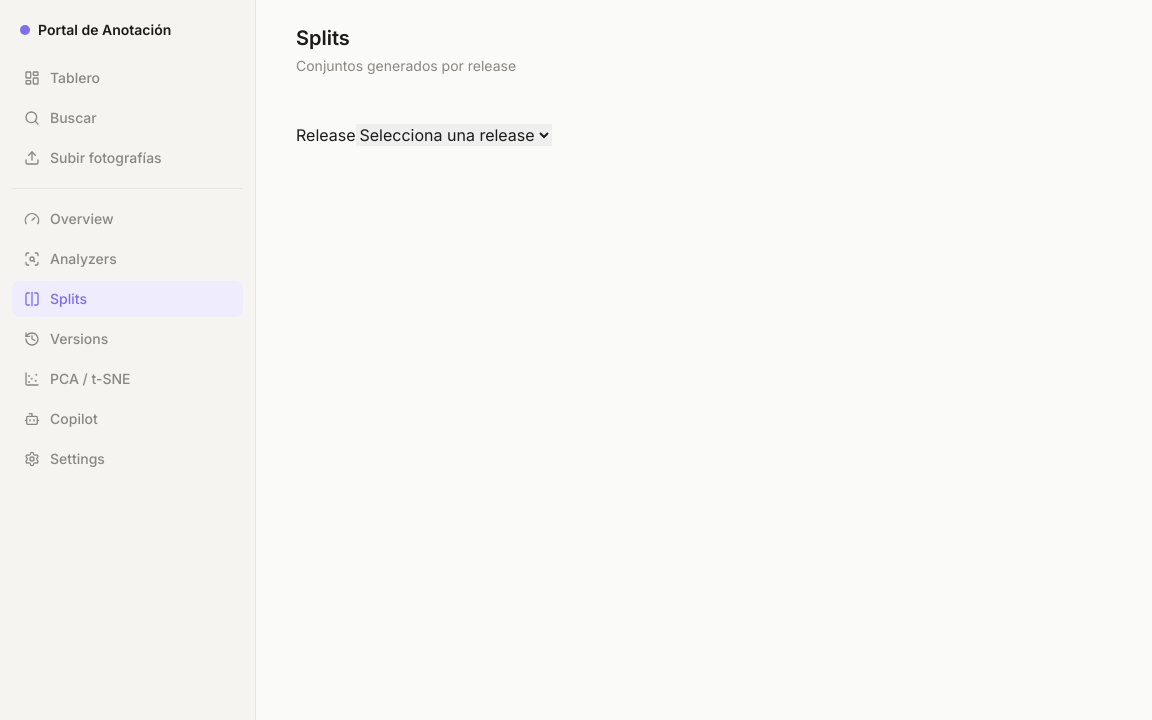
Test: rejects a referenced report belonging to a different version
Select "v0.1.0" in the dropdown labelled "Release" at (454, 135), box [356,124,552,146]
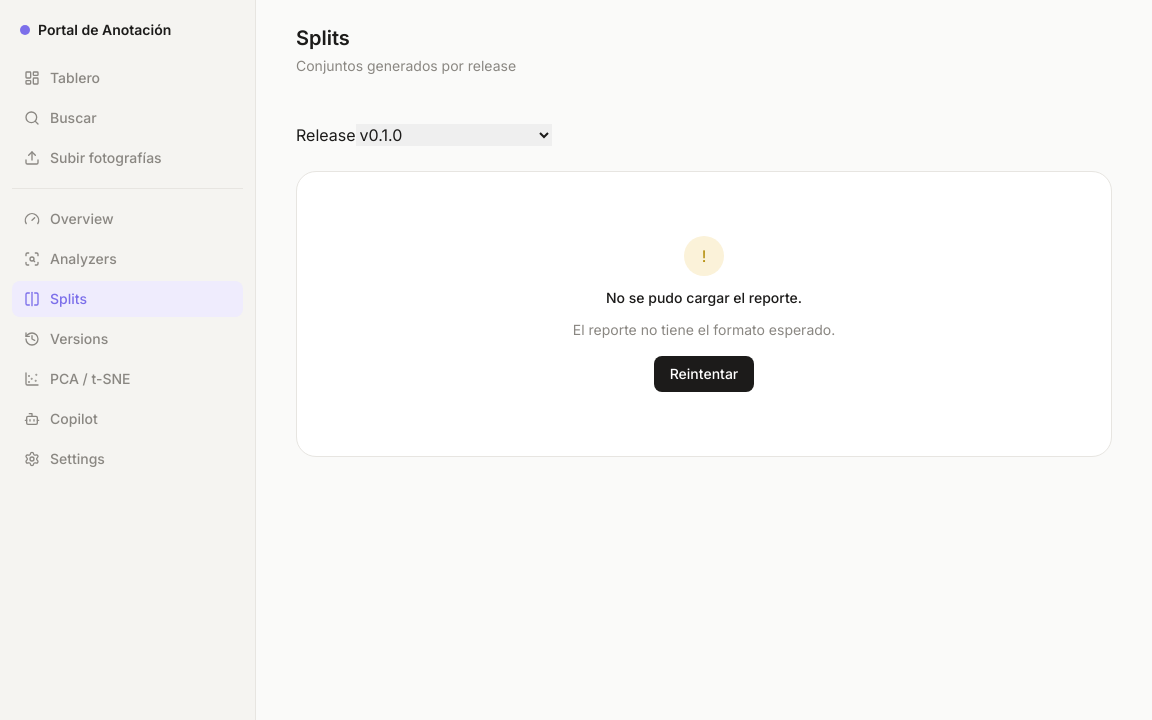
Expected: the text "El reporte no tiene el formato esperado." is shown, [573,320,835,340]
